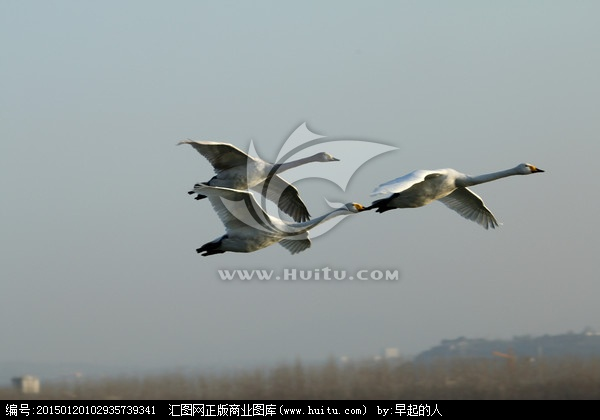bird: (359, 163, 548, 231), (185, 187, 367, 257), (174, 127, 342, 201)
